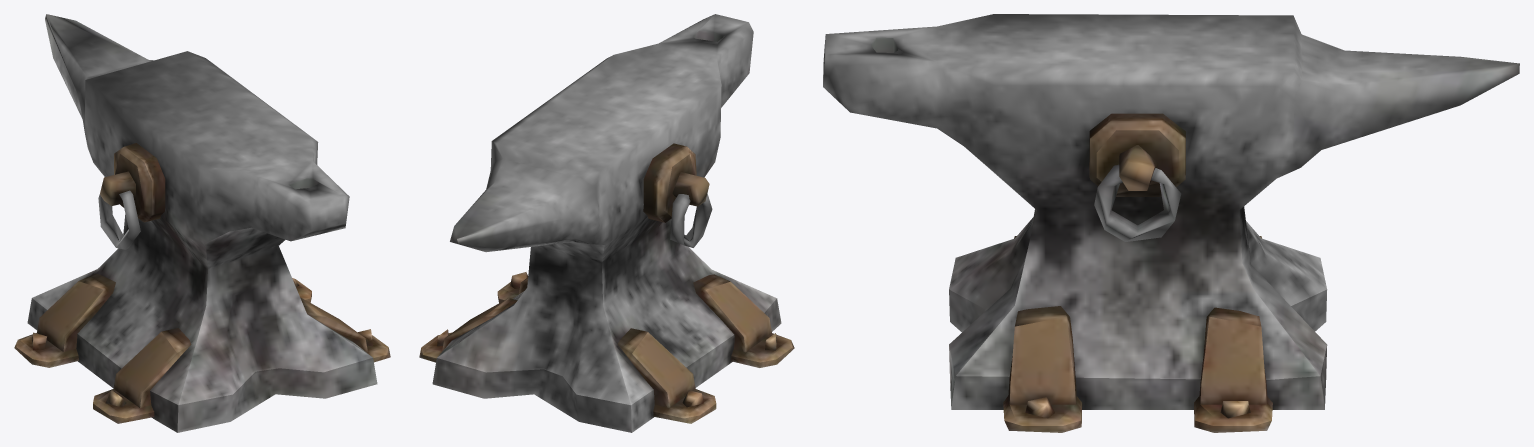
File: anvil.lod0.glb
3 views of the same model, side by side, from view 1: azimuth 30°, elevation 25°; view 2: azimuth 150°, elevation 25°; view 3: azimuth 270°, elevation 25° (orthographic). The views are drawn at different scales.
Visible parts, largest first — view 1: defaultMaterial; view 2: defaultMaterial; view 3: defaultMaterial.
Boxes of the visible parts, x1=… form: defaultMaterial: x1=14, y1=14, x2=390, y2=432; defaultMaterial: x1=419, y1=14, x2=794, y2=432; defaultMaterial: x1=823, y1=14, x2=1519, y2=432.
Bounding box in the file's own units: 0.5735 × 0.4819 × 0.9927.
1 material, 1 textured.
